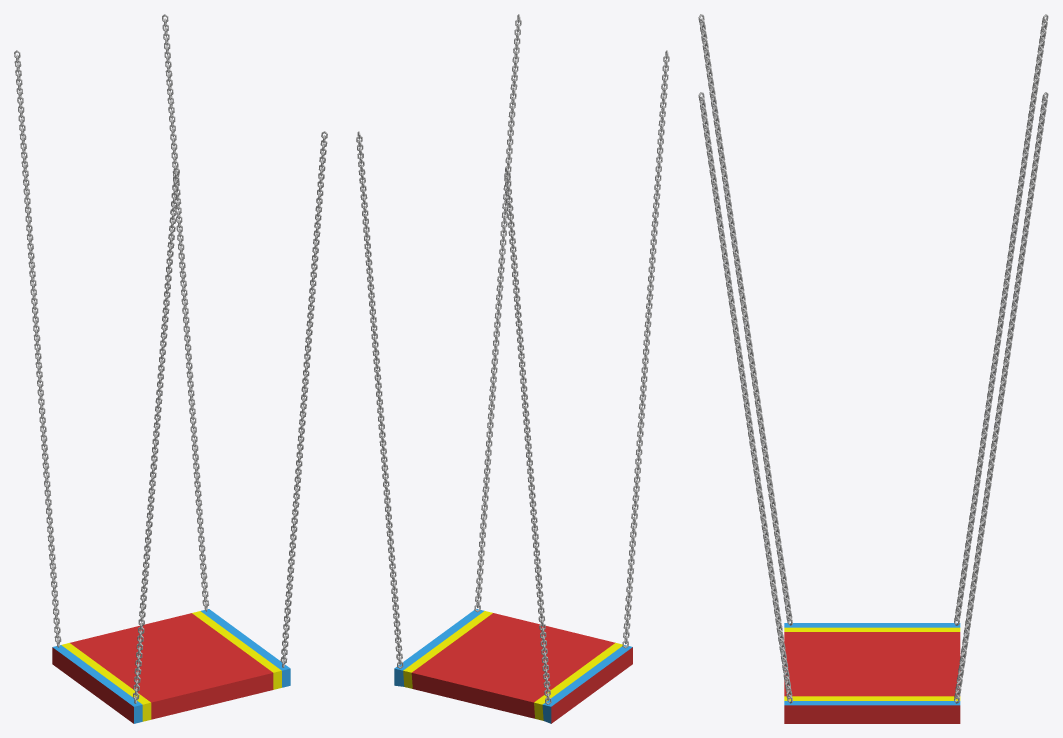
The model's file is EVPlataform.fbx.
3 views of the same model, side by side, from view 1: azimuth 30°, elevation 25°; view 2: azimuth 150°, elevation 25°; view 3: azimuth 270°, elevation 25° (orthographic). The views are drawn at different scales.
Parts seen in each view (by area): view 1: Cube.009, Torus.003, Torus.001, Torus, Torus.002; view 2: Cube.009, Torus.002, Torus, Torus.003, Torus.001; view 3: Cube.009, Torus.002, Torus, Torus.003, Torus.001.
Part boxes in pixels (x1,y1,x2,y2): Cube.009: (52, 609, 290, 723); Torus.003: (14, 50, 61, 647); Torus.001: (162, 14, 209, 611); Torus: (280, 131, 327, 667); Torus.002: (132, 167, 179, 703); Cube.009: (394, 609, 632, 723); Torus.002: (622, 50, 669, 648); Torus: (474, 14, 521, 612); Torus.003: (504, 167, 551, 704); Torus.001: (356, 131, 403, 668); Cube.009: (784, 623, 960, 723); Torus.002: (698, 14, 792, 625); Torus: (698, 92, 792, 703); Torus.003: (954, 14, 1048, 625); Torus.001: (954, 92, 1048, 703).
Size of the model in its own units: 1665 by 5926 by 2985.
Materials: 1 (1 with a texture image).
